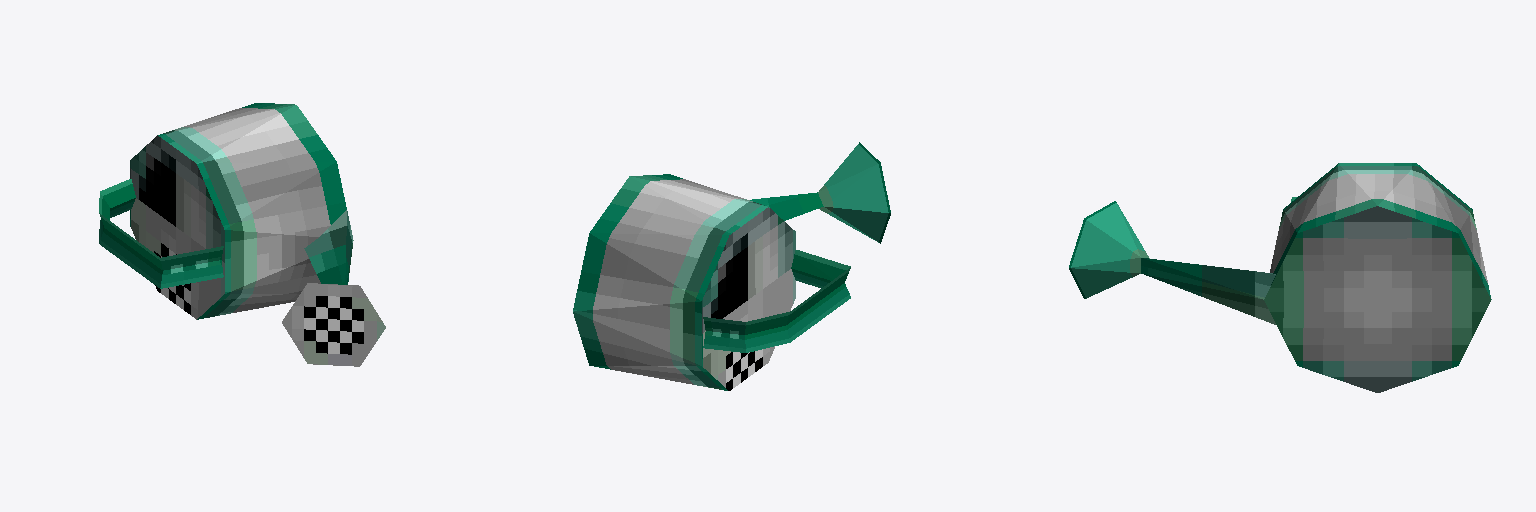
3 views of the same model, side by side, from view 1: azimuth 30°, elevation 25°; view 2: azimuth 150°, elevation 25°; view 3: azimuth 270°, elevation 25° (orthographic).
Visible parts, largest first — view 1: vsn_mesh_0__mesh_0_.002; view 2: vsn_mesh_0__mesh_0_.002; view 3: vsn_mesh_0__mesh_0_.002.
Boxes of the visible parts, x1=… form: vsn_mesh_0__mesh_0_.002: x1=99, y1=103, x2=385, y2=366; vsn_mesh_0__mesh_0_.002: x1=573, y1=142, x2=890, y2=390; vsn_mesh_0__mesh_0_.002: x1=1069, y1=163, x2=1491, y2=392.
Bounding box in the file's own units: 9.45 × 9.45 × 19.33.
Materials: 1 (1 with a texture image).